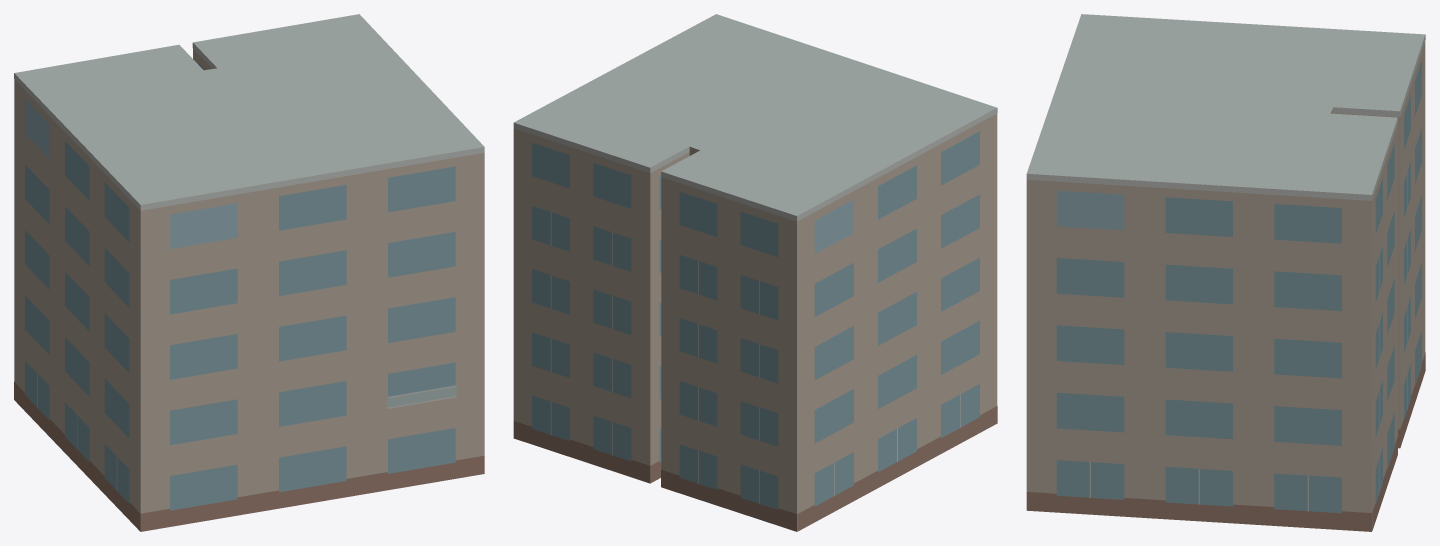
The model's file is survey-upis-32669982.glb.
3 views of the same model, side by side, from view 1: azimuth 30°, elevation 25°; view 2: azimuth 150°, elevation 25°; view 3: azimuth 270°, elevation 25° (orthographic). The views are drawn at different scales.
Parts seen in each view (by area): view 1: survey-upis-32669982.tmp; view 2: survey-upis-32669982.tmp; view 3: survey-upis-32669982.tmp.
Part boxes in pixels (x1,y1,x2,y2): survey-upis-32669982.tmp: (14,14,484,531); survey-upis-32669982.tmp: (513,14,997,531); survey-upis-32669982.tmp: (1026,14,1425,531).
Size of the model in its own units: 15.87 by 13.77 by 14.78.
